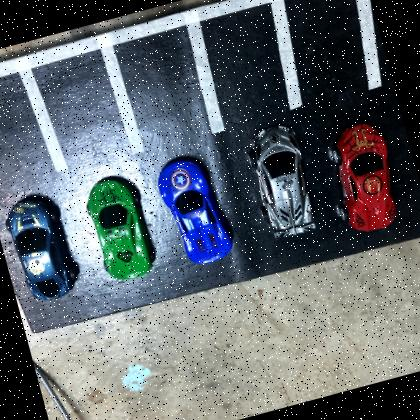Car: (320, 118, 407, 238), (153, 151, 238, 270), (241, 121, 322, 242), (80, 172, 158, 286), (2, 194, 78, 307)
